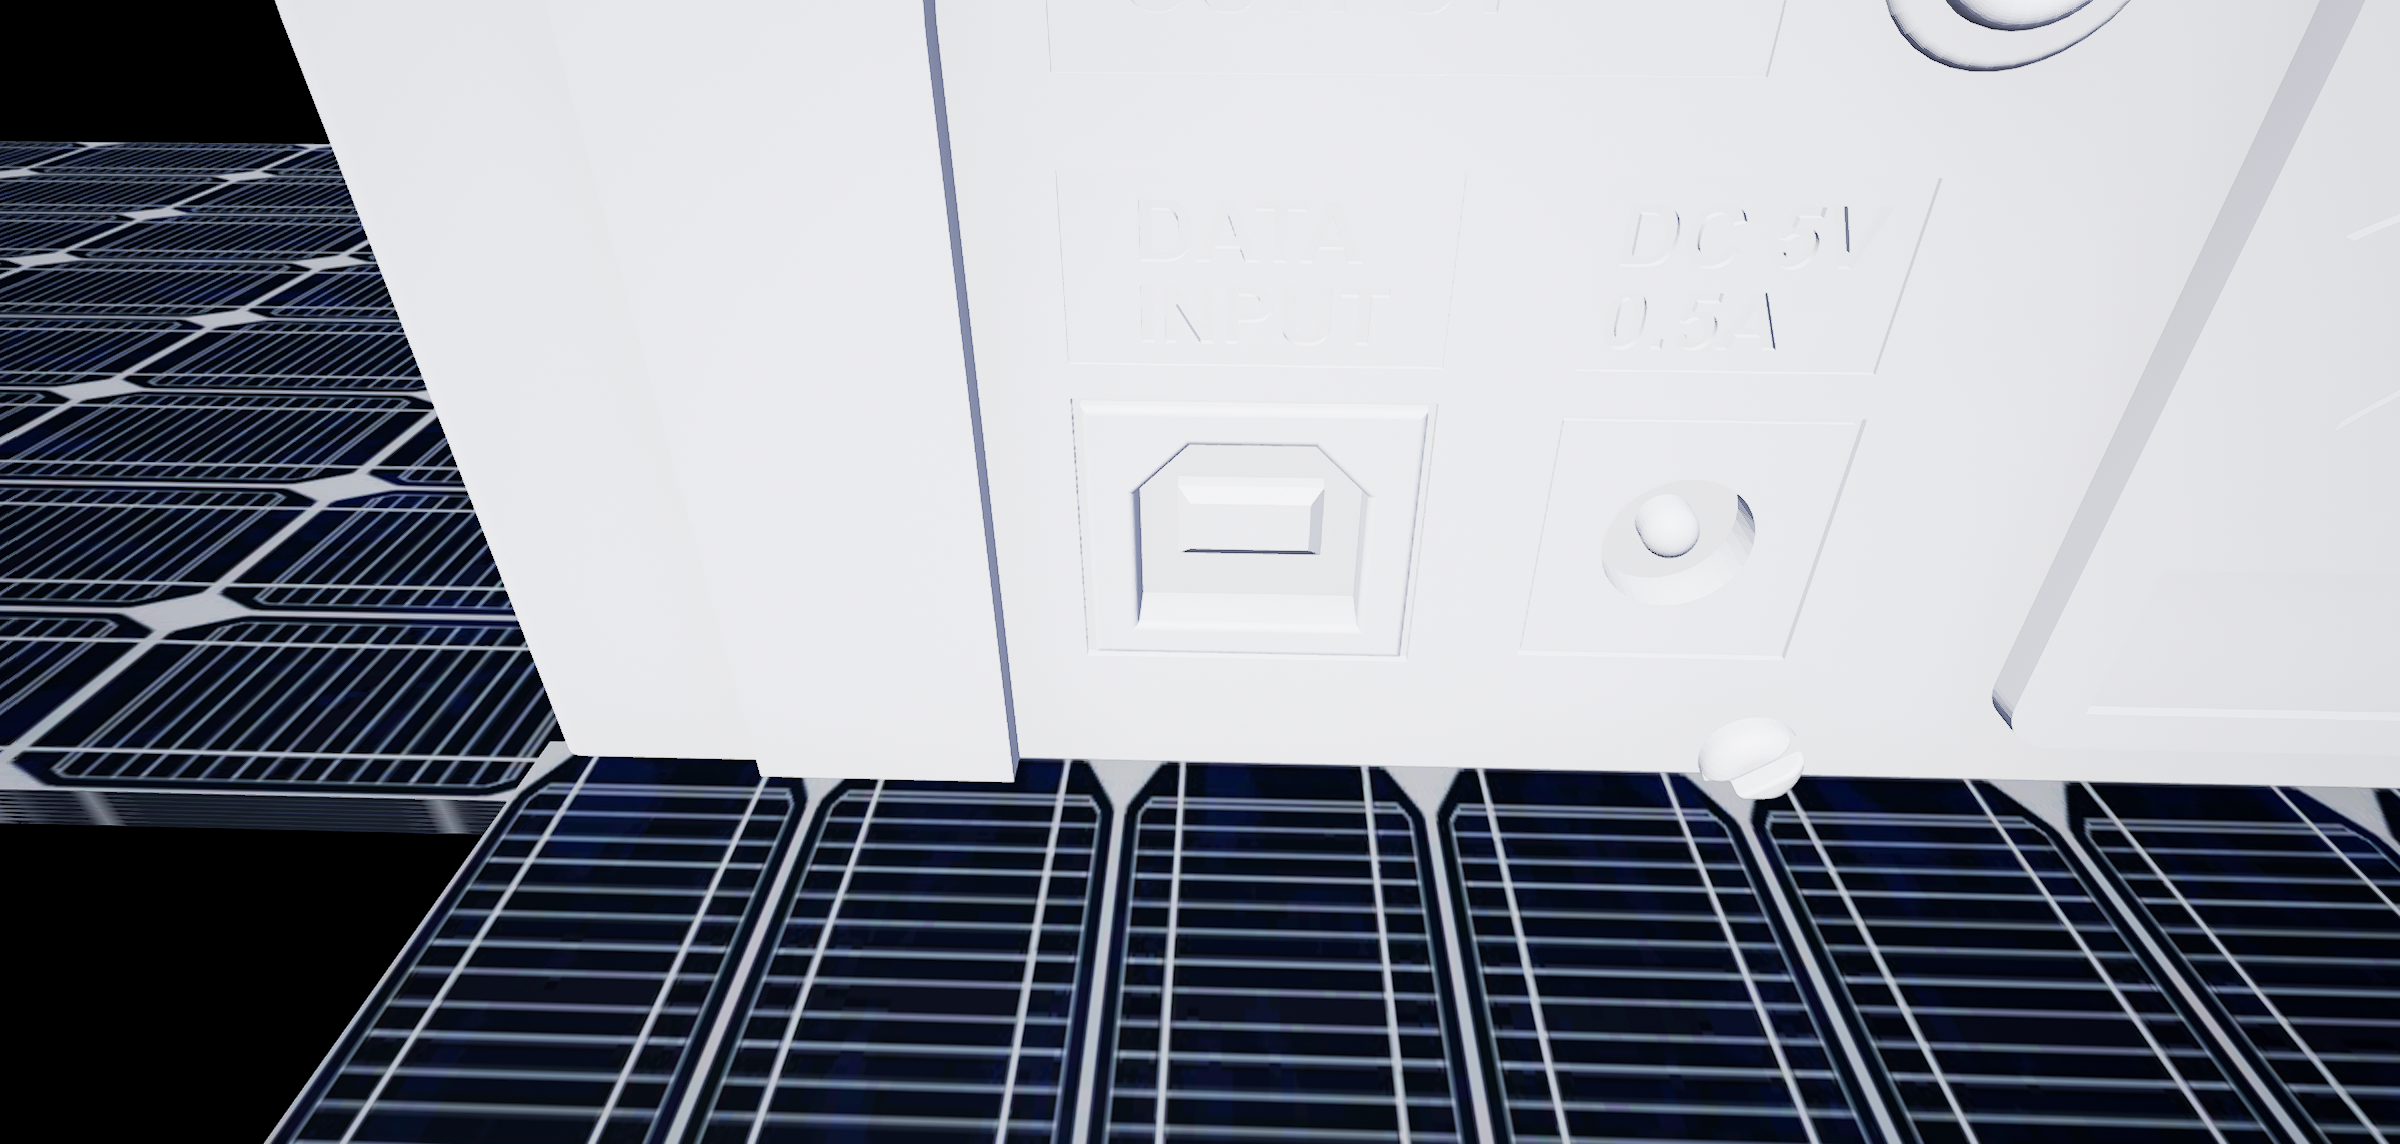dc: (1587, 476, 1779, 623)
usb: (1117, 427, 1381, 636)
